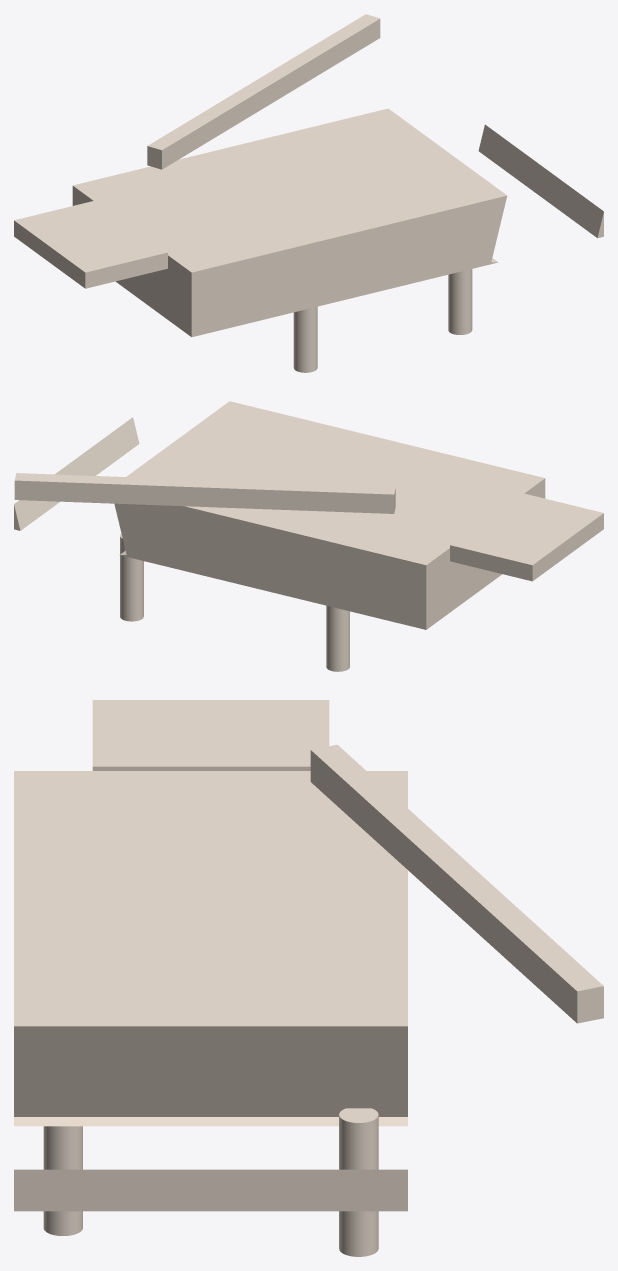
Rendered from piano.glb.
3 renders of one model, top to bottom at view 1: azimuth 30°, elevation 25°; view 2: azimuth 150°, elevation 25°; view 3: azimuth 270°, elevation 25°, orthographic. The views are drawn at different scales.
Size of the model in its own units: 0.096 by 0.0333 by 0.0599.
